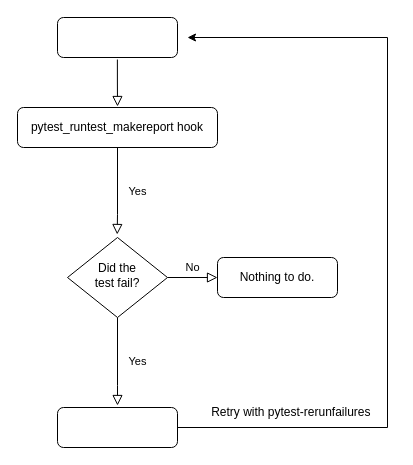
Image size: 413x465. Some labels were removed from this diagram. The shapes that lost their labels are listed below. From the top down, each one's box as (x1, y1, x2, y2) in pixels, then its label:
(56, 16, 178, 58): Run Pytest
(56, 406, 178, 448): Record exception in Sentry
